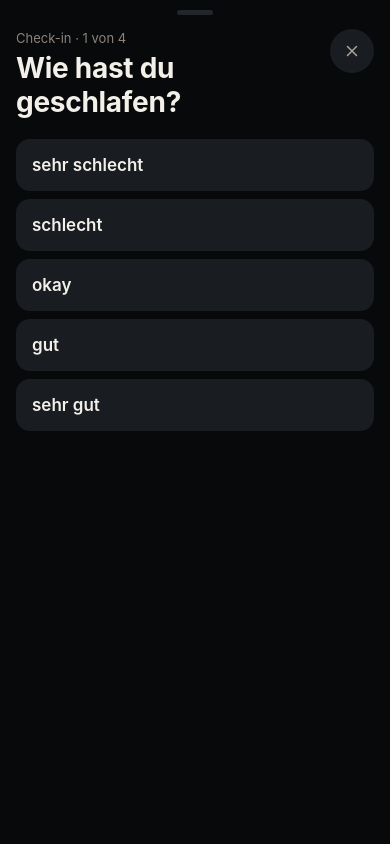
Test: CheckInSheet › vier Tipps speichern den Check-in (unter 5 Interaktionen), keine Schlafdauer-Eingabe
Click the button "gut": {"x": 46, "y": 345} [16, 319, 374, 371]
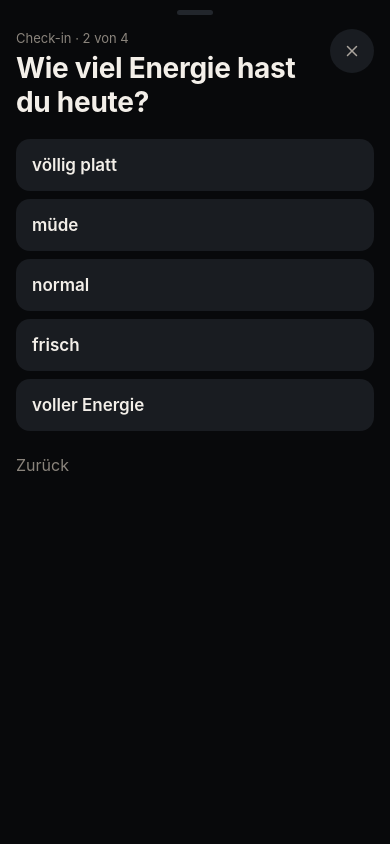
Click the button "normal": {"x": 61, "y": 285} [16, 259, 374, 311]
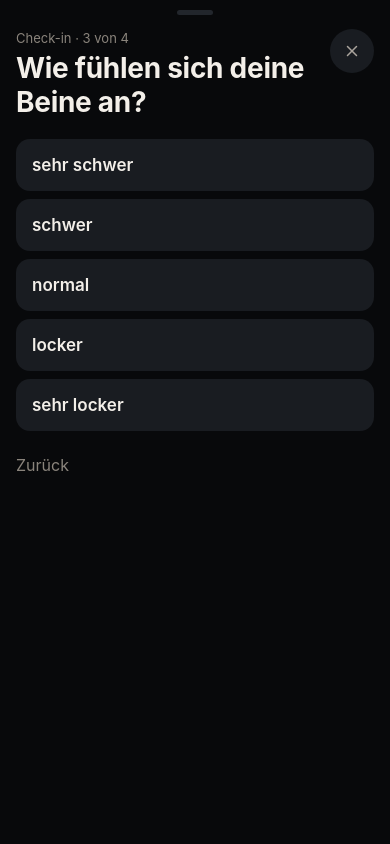
Click the button "schwer": {"x": 62, "y": 225} [16, 199, 374, 251]
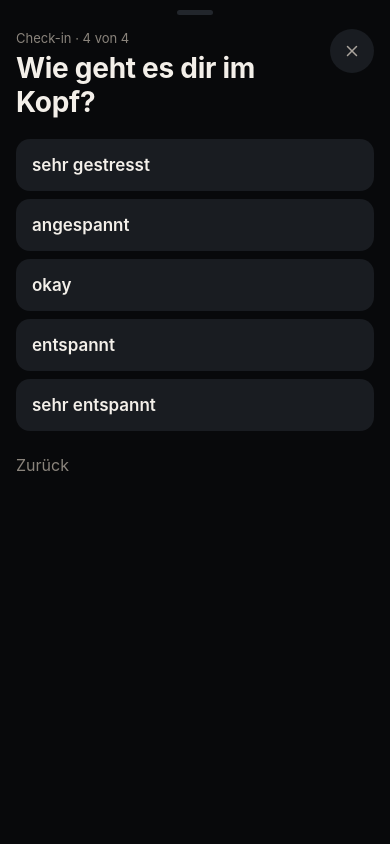
Click the button "sehr entspannt": {"x": 94, "y": 405} [16, 379, 374, 431]
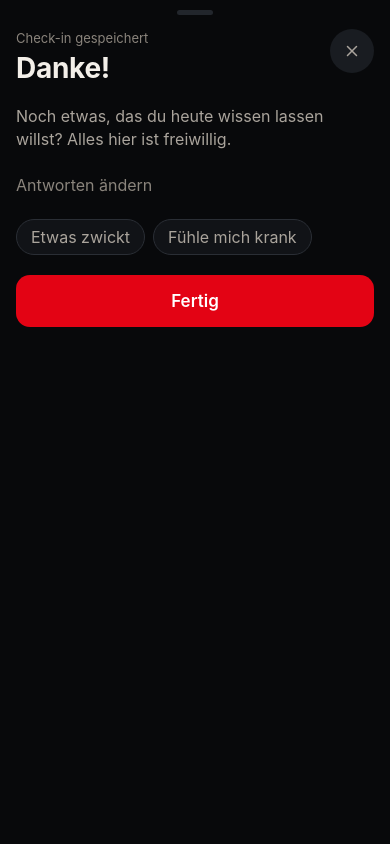
Result: the heading "Danke!" is shown at [16, 51, 110, 85]
